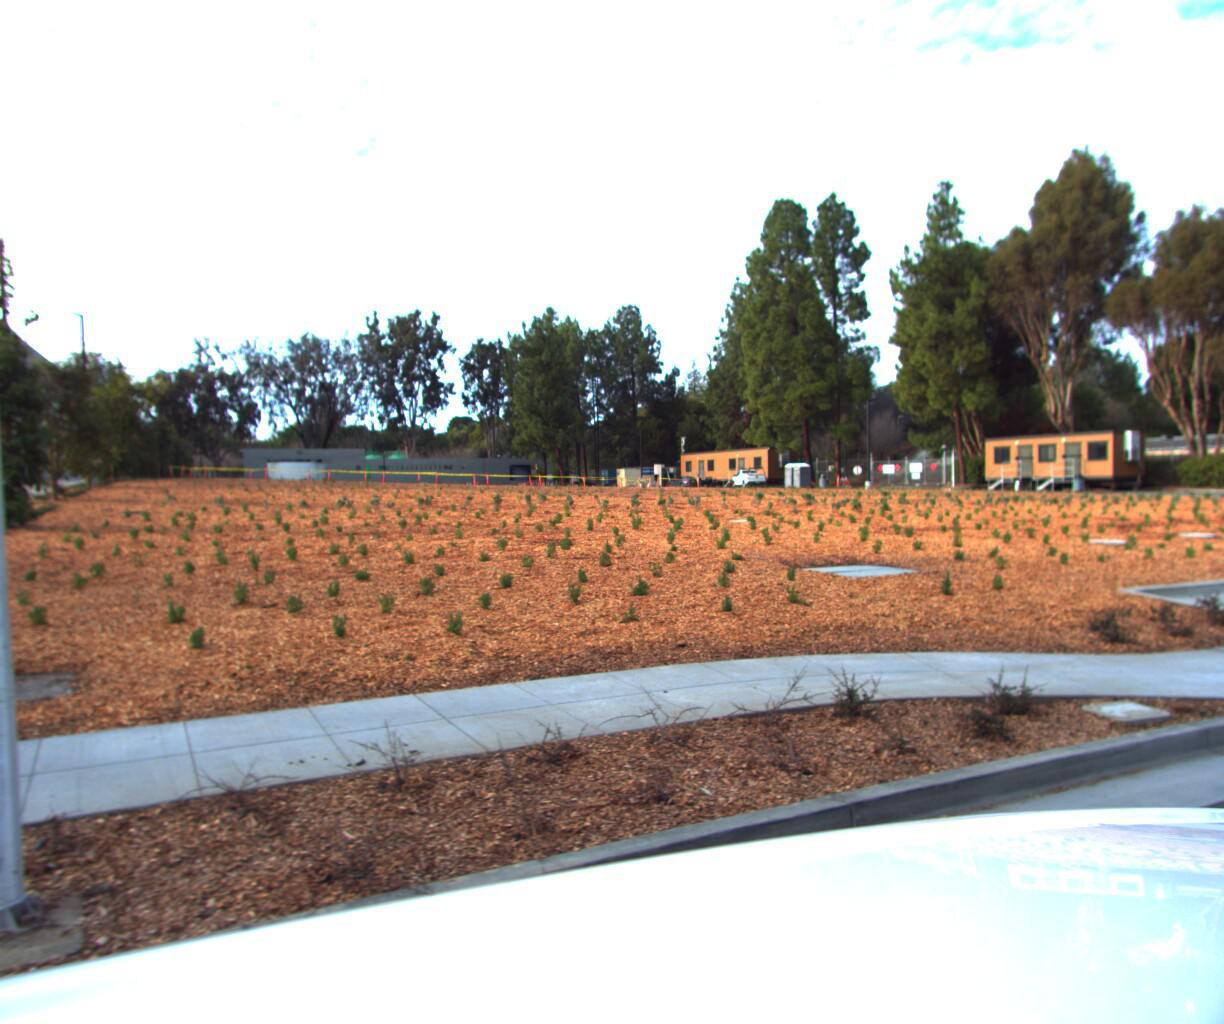car: (727, 464, 769, 485)
